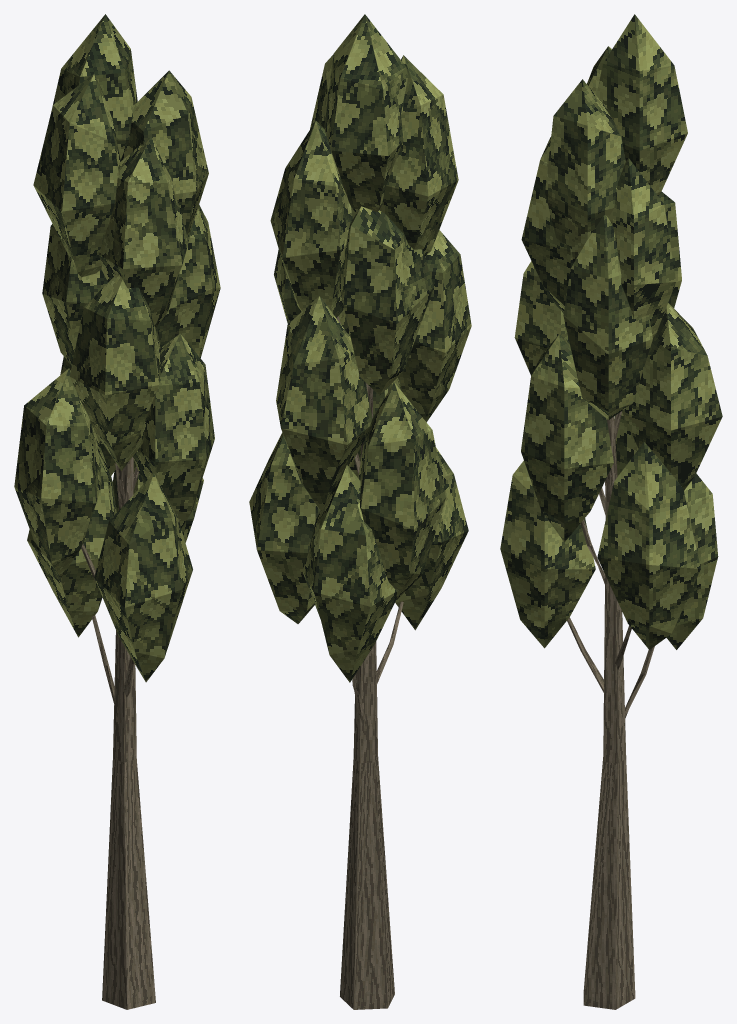
Rendered from TREE_Poplar_A_LOD2.glb.
3 renders of one model, left to right at view 1: azimuth 30°, elevation 25°; view 2: azimuth 150°, elevation 25°; view 3: azimuth 270°, elevation 25°, orthographic. The views are drawn at different scales.
Visible parts, largest first — view 1: TREE_Poplar_A_LOD2__Foliage, TREE_Poplar_A_LOD2__Bark; view 2: TREE_Poplar_A_LOD2__Foliage, TREE_Poplar_A_LOD2__Bark; view 3: TREE_Poplar_A_LOD2__Foliage, TREE_Poplar_A_LOD2__Bark.
Part boxes in pixels (x1,y1,x2,y2): TREE_Poplar_A_LOD2__Foliage: (14, 14, 220, 682); TREE_Poplar_A_LOD2__Bark: (81, 457, 155, 1009); TREE_Poplar_A_LOD2__Foliage: (249, 14, 471, 682); TREE_Poplar_A_LOD2__Bark: (336, 316, 403, 1009); TREE_Poplar_A_LOD2__Foliage: (500, 14, 722, 649); TREE_Poplar_A_LOD2__Bark: (567, 411, 654, 1009).
Size of the model in its own units: 3.2 by 16.82 by 3.46.
Materials: 2 (2 with a texture image).
